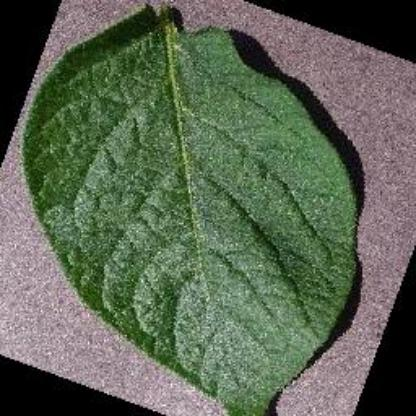Healthy-plant: (25, 3, 356, 413)
